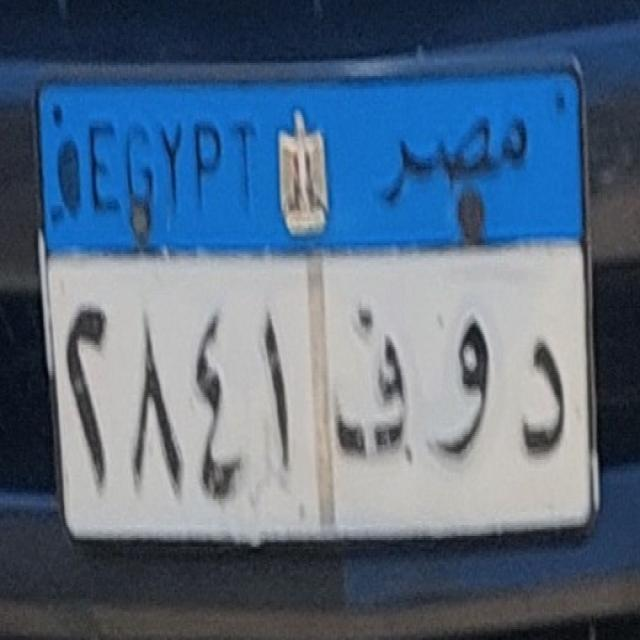1: (248, 300, 308, 484)
2: (52, 292, 134, 505)
4: (178, 296, 254, 510)
8: (121, 304, 191, 501)
F: (322, 287, 422, 482)
Wow: (419, 300, 504, 484)
daal: (510, 322, 578, 472)
